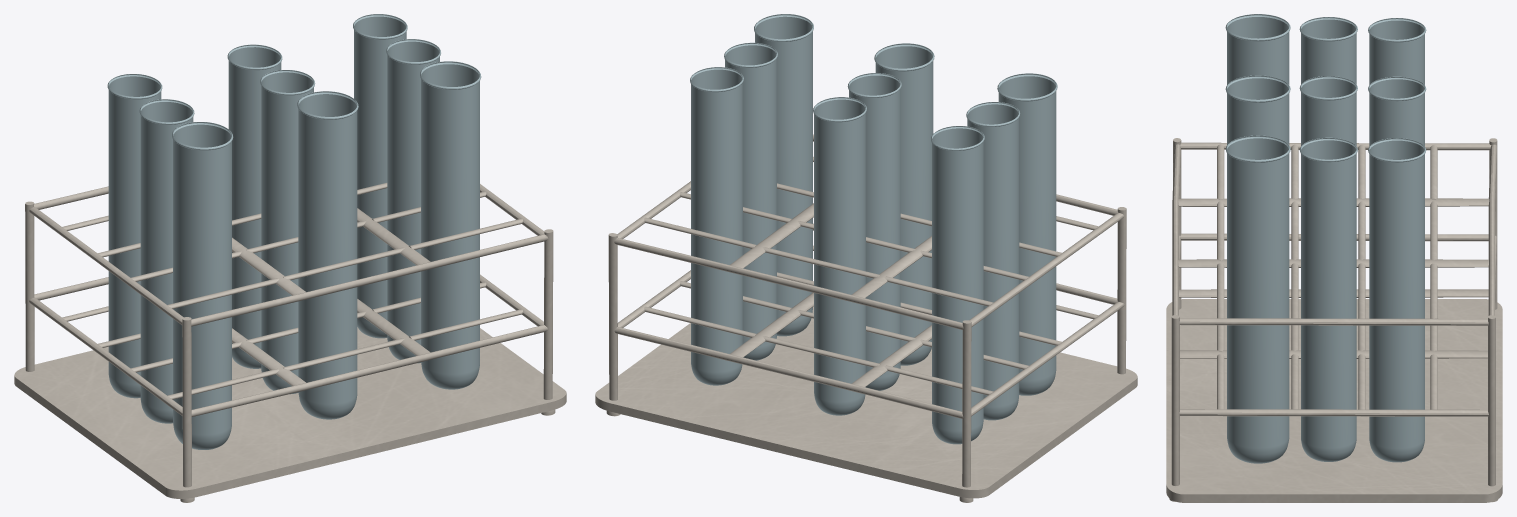
Rendered from lab_test_tube_with_rack_2.glb.
The picture shows the model from 3 angles, left to right: view 1: azimuth 30°, elevation 25°; view 2: azimuth 150°, elevation 25°; view 3: azimuth 270°, elevation 25°; orthographic projection. The views are drawn at different scales.
Visible parts, largest first — view 1: Cylinder.037; view 2: Cylinder.037; view 3: Cylinder.037.
Part boxes in pixels (x1,y1,x2,y2): Cylinder.037: (14,14,566,502); Cylinder.037: (595,14,1137,502); Cylinder.037: (1166,14,1502,502).
Size of the model in its own units: 0.2092 by 0.1615 by 0.1521.
Materials: 2 (1 with a texture image).
